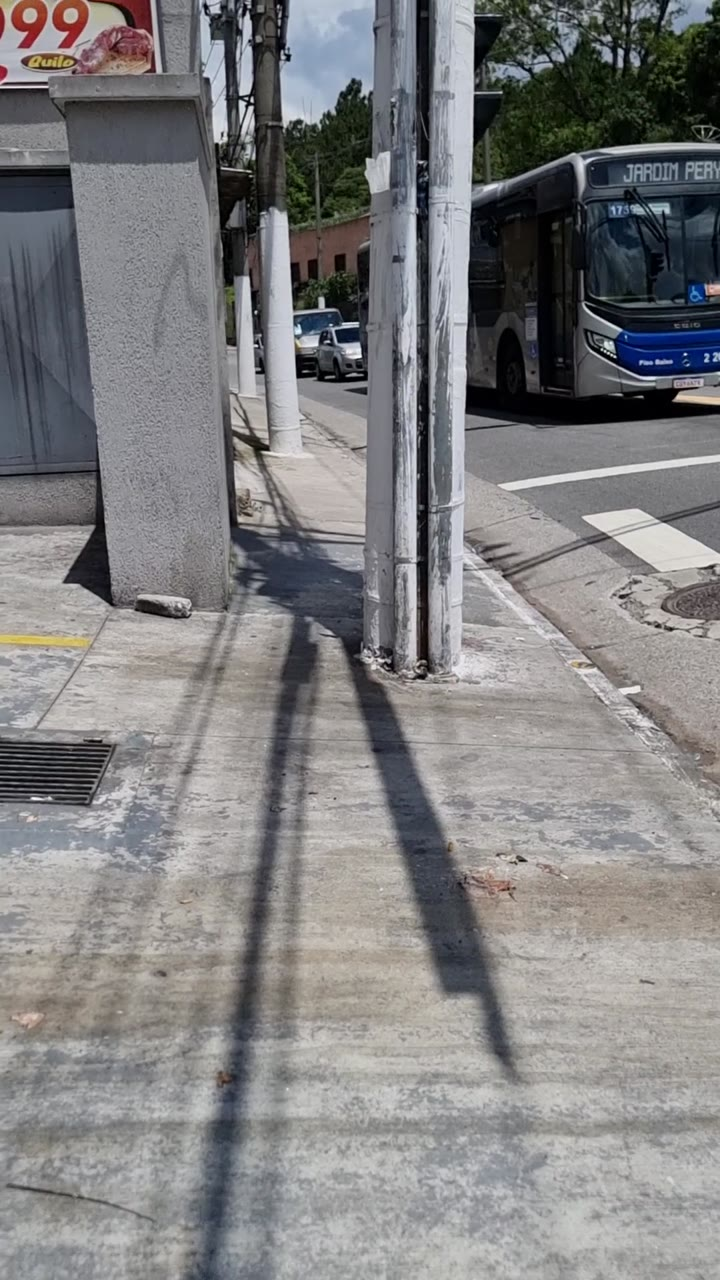obstaculo: (360, 0, 482, 691), (252, 154, 302, 461)
